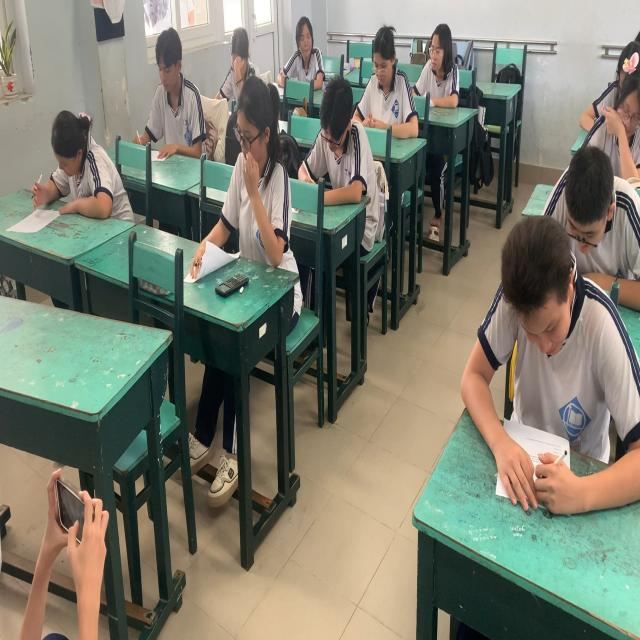not_cheating: (456, 230, 638, 520), (207, 81, 300, 261), (39, 81, 134, 257), (140, 9, 207, 178), (545, 147, 640, 265), (310, 74, 376, 199), (357, 23, 415, 136), (591, 60, 640, 166), (414, 16, 466, 112), (290, 15, 327, 95), (218, 22, 252, 95)
